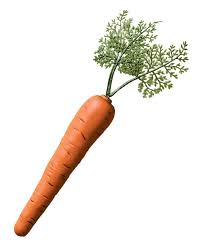carrot: (9, 80, 119, 243)
